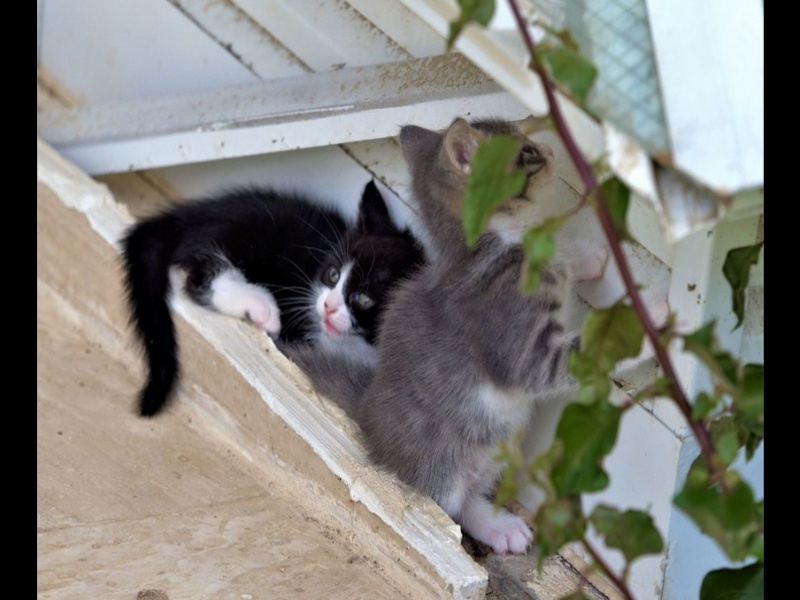cat: (313, 108, 621, 562), (118, 177, 435, 420)
